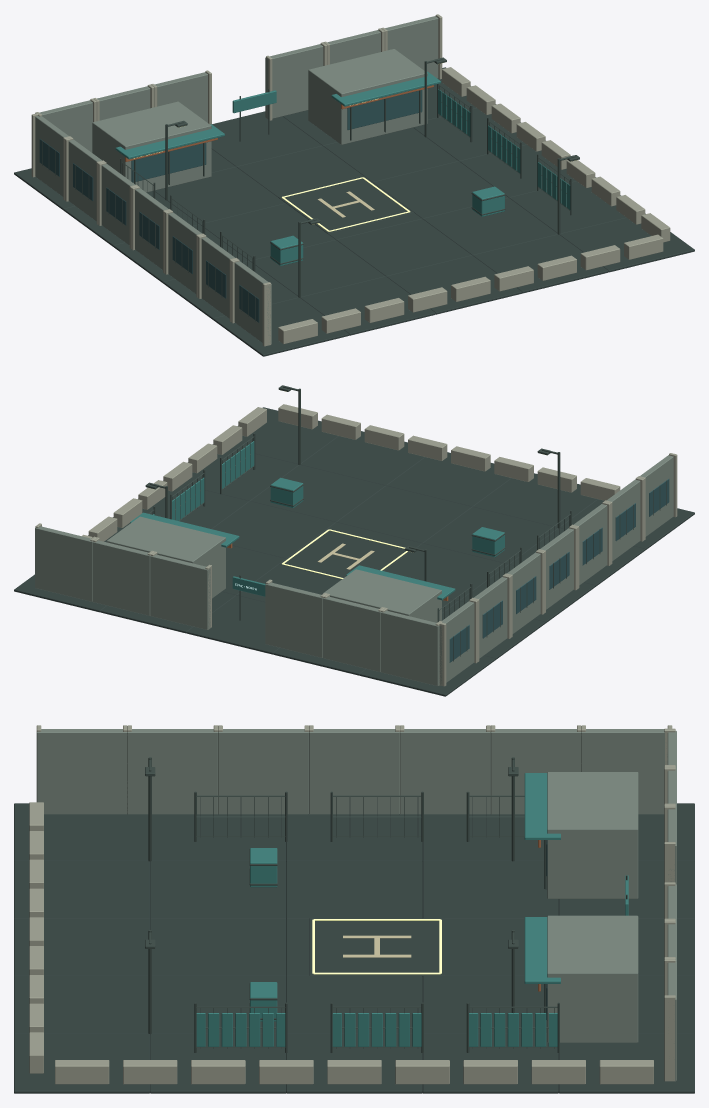
Rendered from chapter_evac.glb.
3 renders of one model, top to bottom at view 1: azimuth 30°, elevation 25°; view 2: azimuth 150°, elevation 25°; view 3: azimuth 270°, elevation 25°, orthographic. The views are drawn at different scales.
Visible parts, largest first — view 1: chapter_evac; view 2: chapter_evac; view 3: chapter_evac.
Boxes of the visible parts, bbox=[...] form: chapter_evac: bbox=[14, 14, 694, 356]; chapter_evac: bbox=[14, 385, 694, 696]; chapter_evac: bbox=[14, 725, 694, 1093].
Bounding box in the file's own units: 30 × 5.14 × 30.
